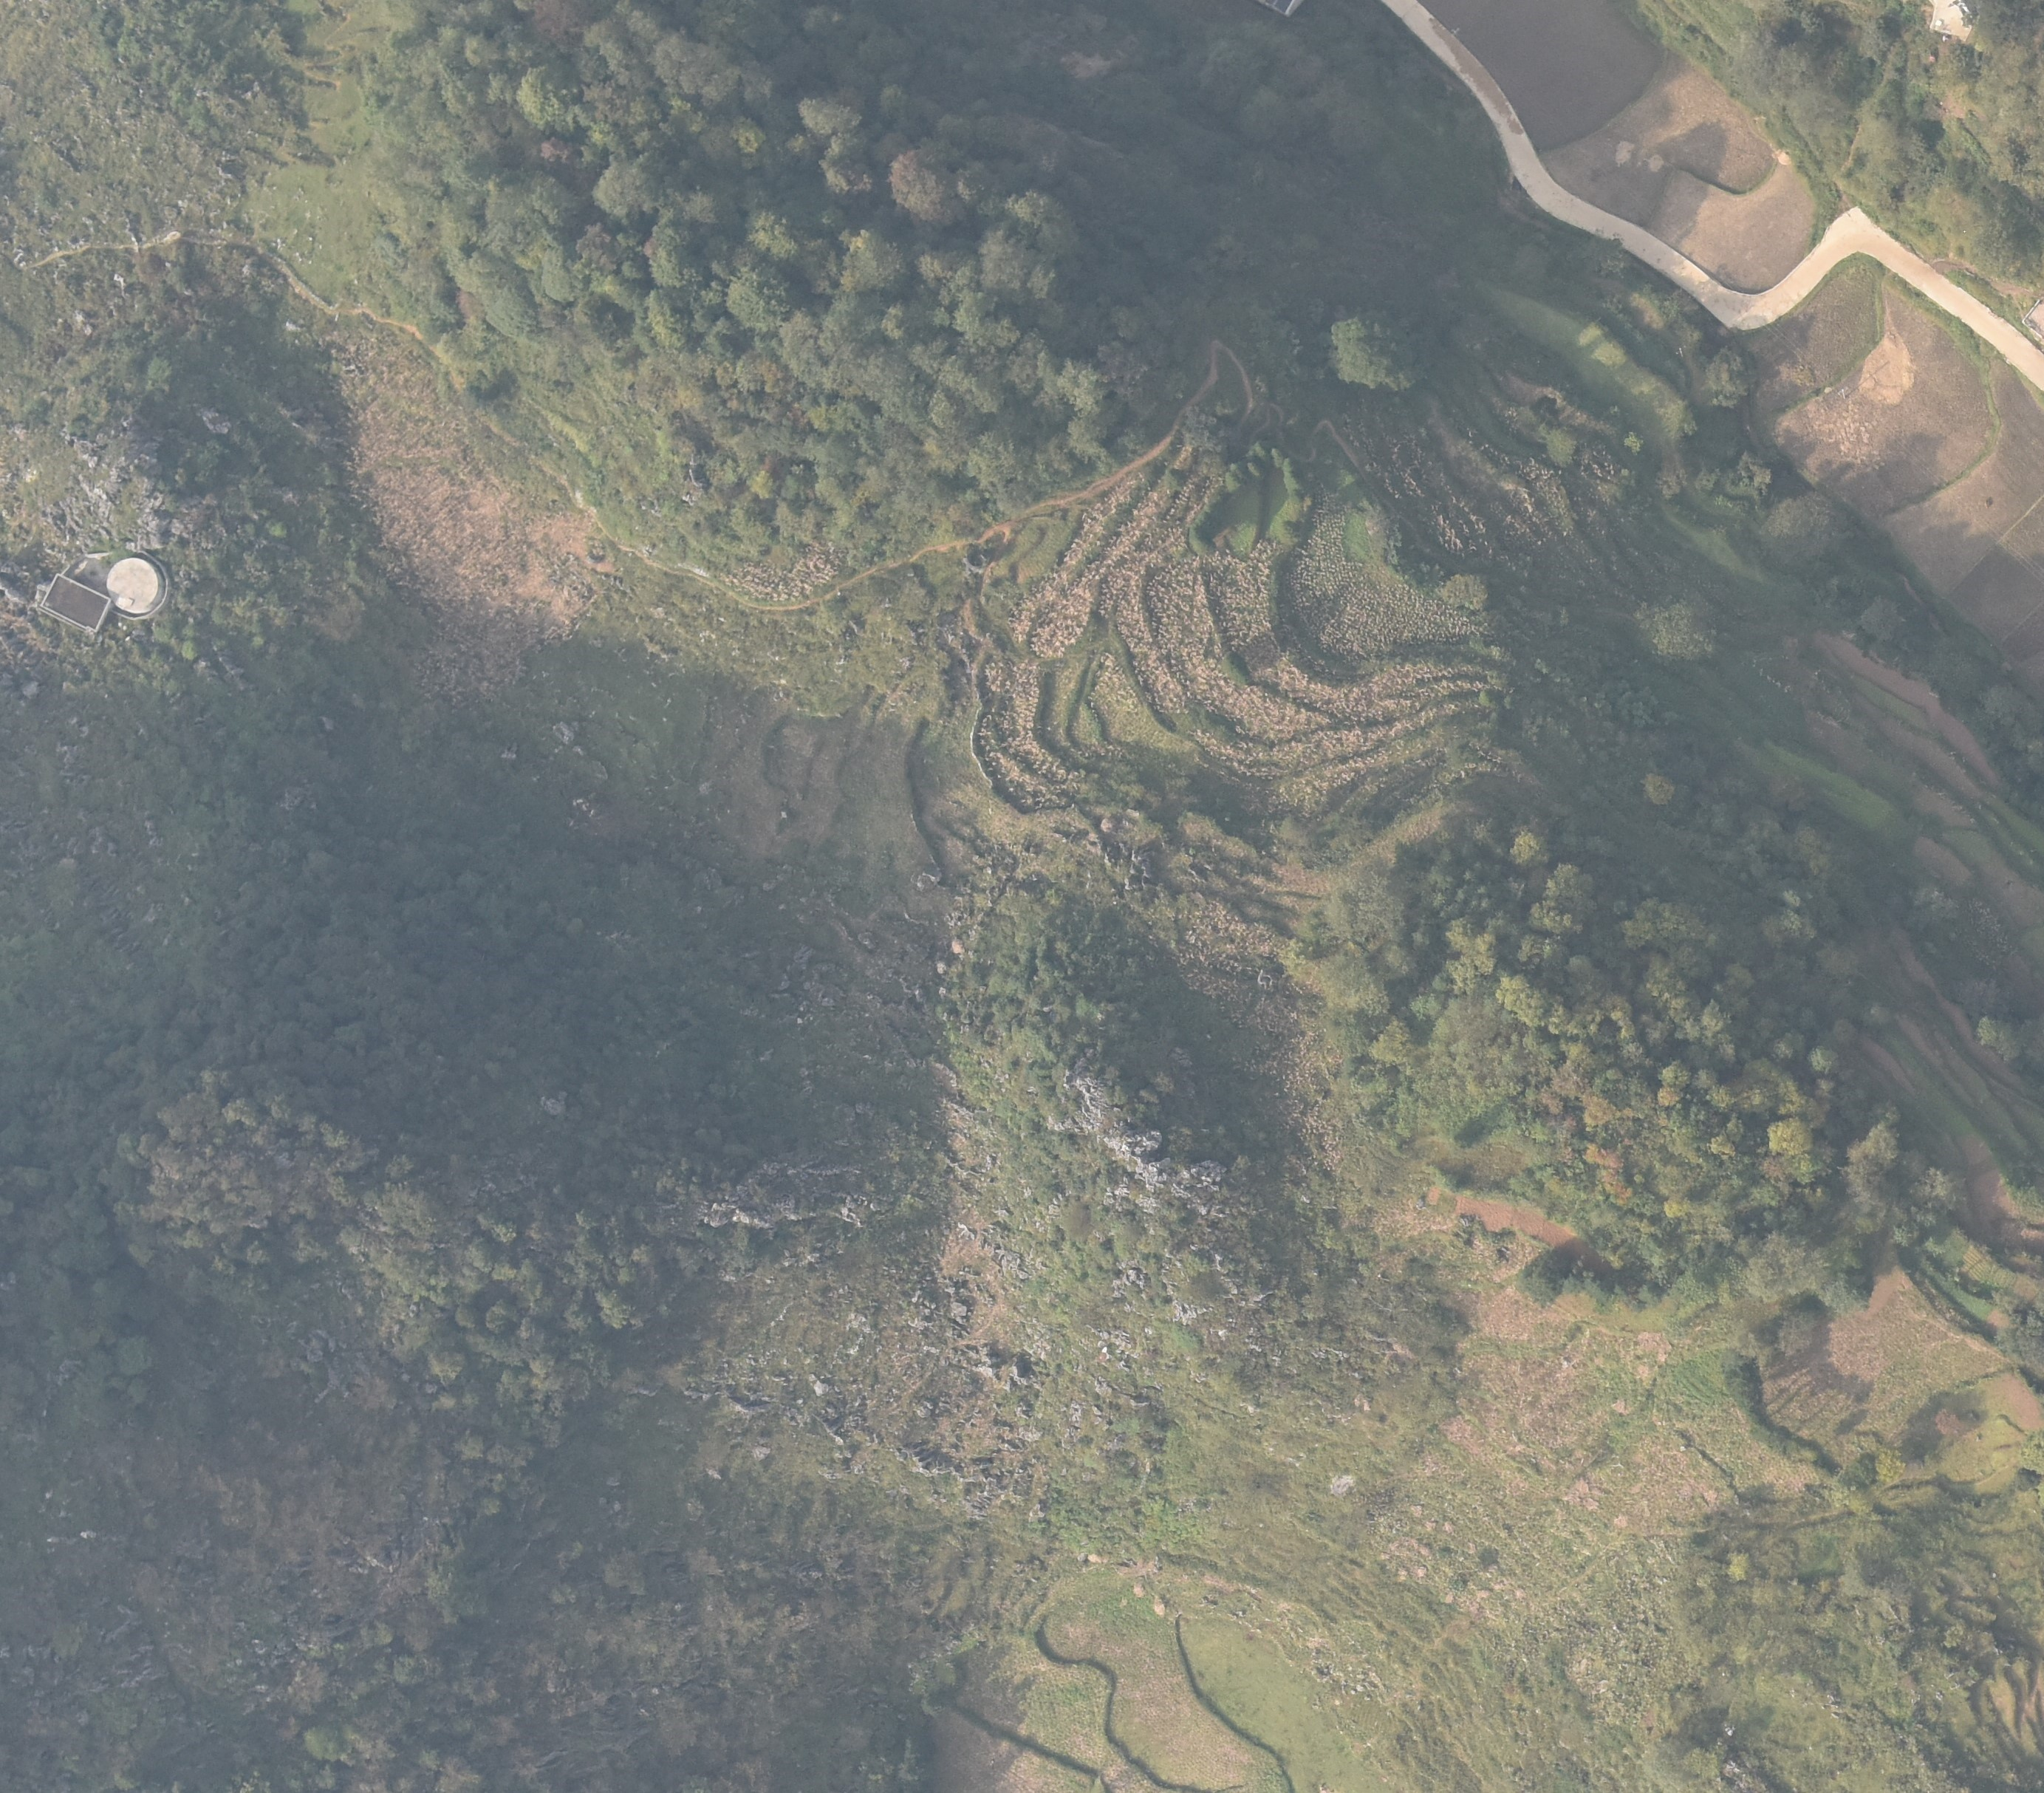building: (40, 573, 110, 635)
cable-tower: (1837, 386, 1848, 399), (1676, 345, 1686, 358)
well: (106, 551, 169, 619)
